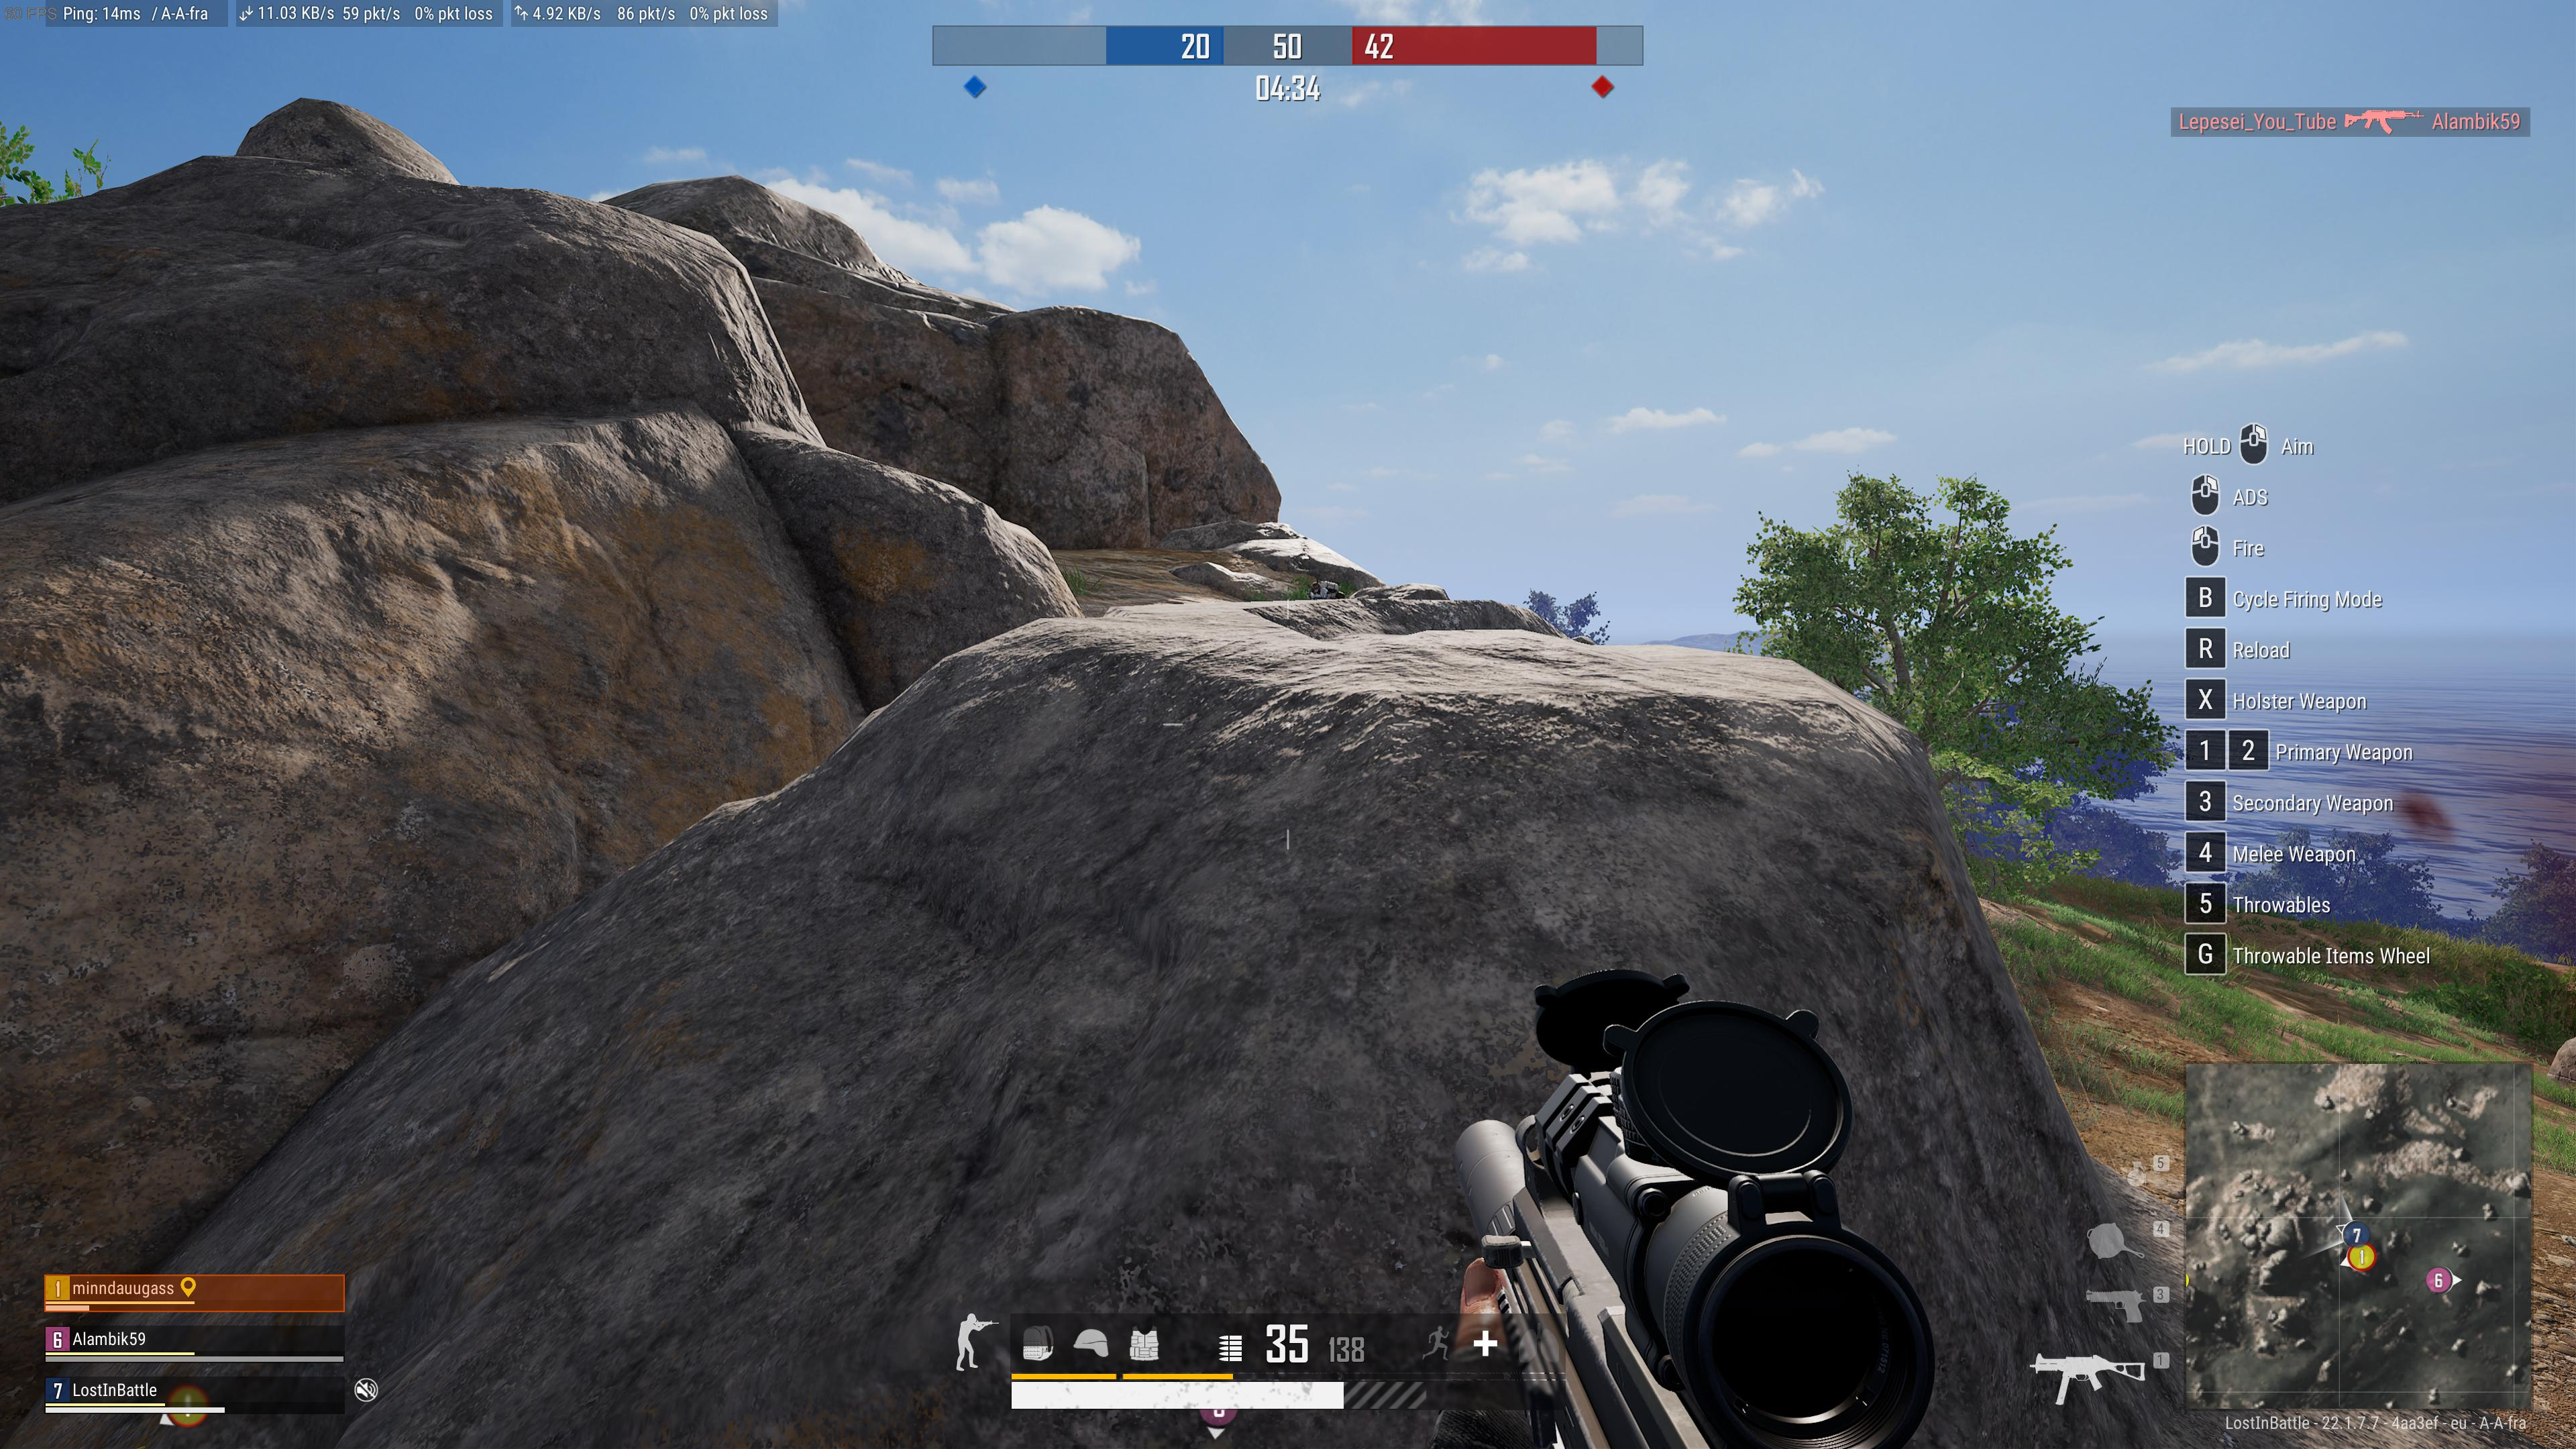enemy: (1304, 577, 1346, 598)
enemy_head: (1309, 580, 1320, 593)
